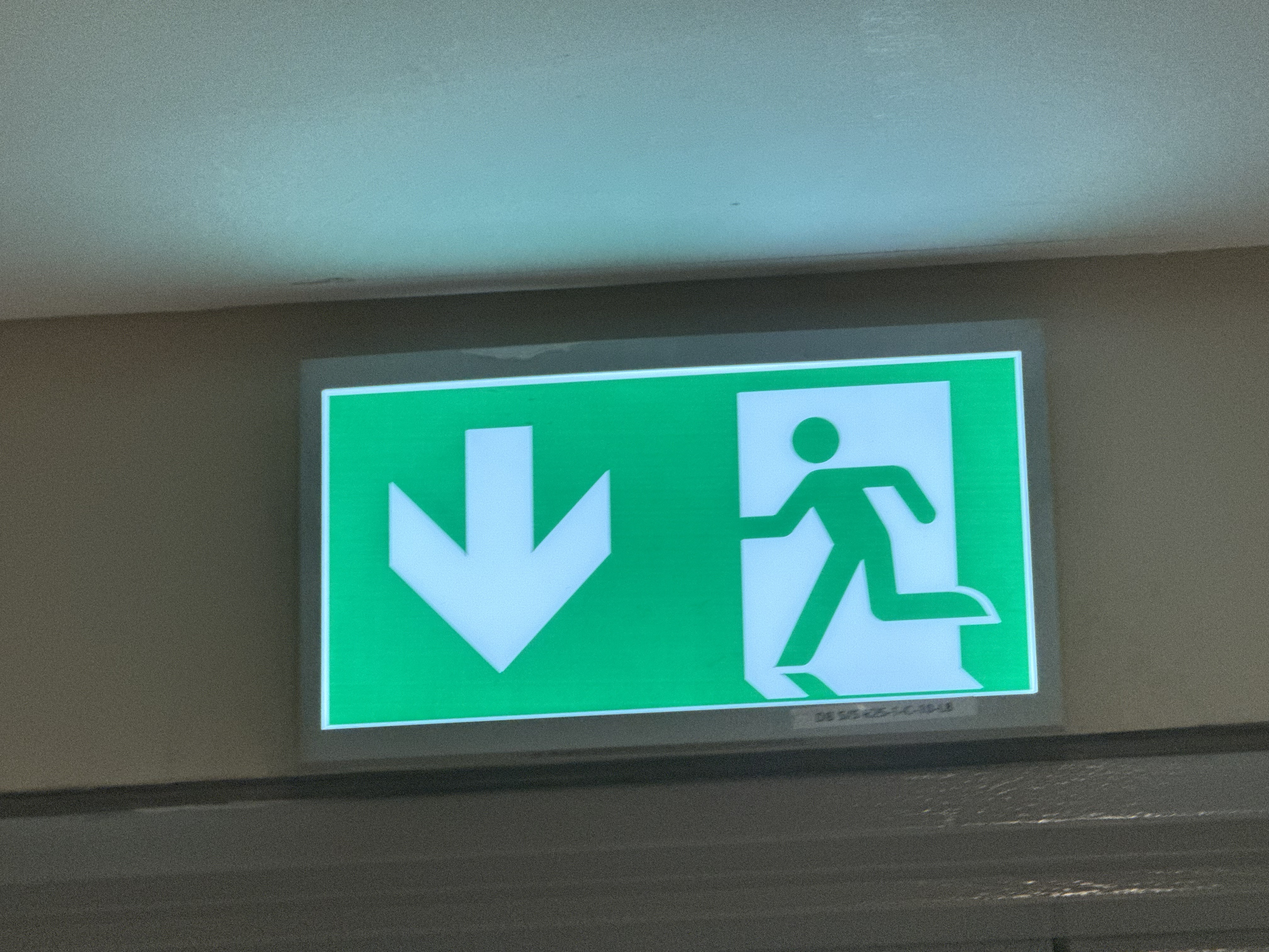emergency_exit: (308, 329, 1053, 736)
